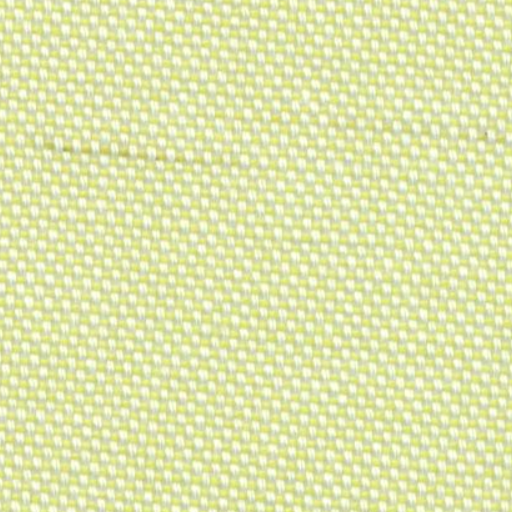WuZi: (48, 118, 228, 183)
